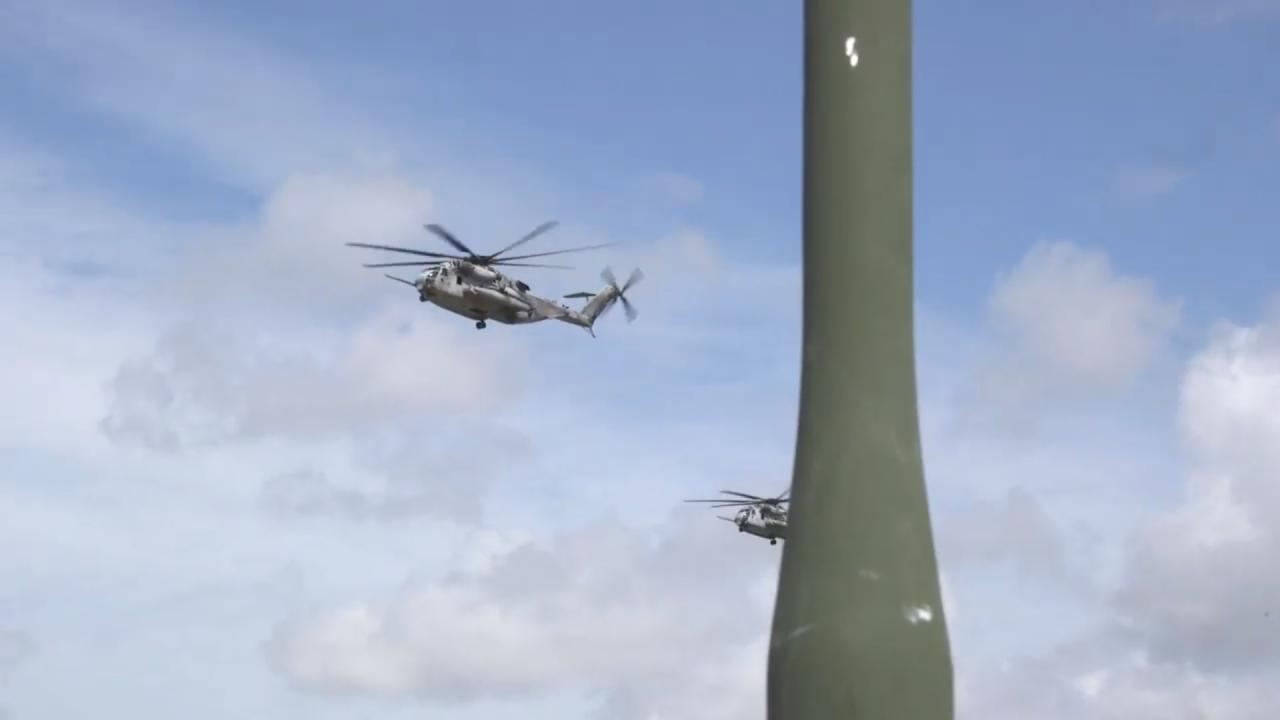Helicopter: (332, 203, 655, 346)
